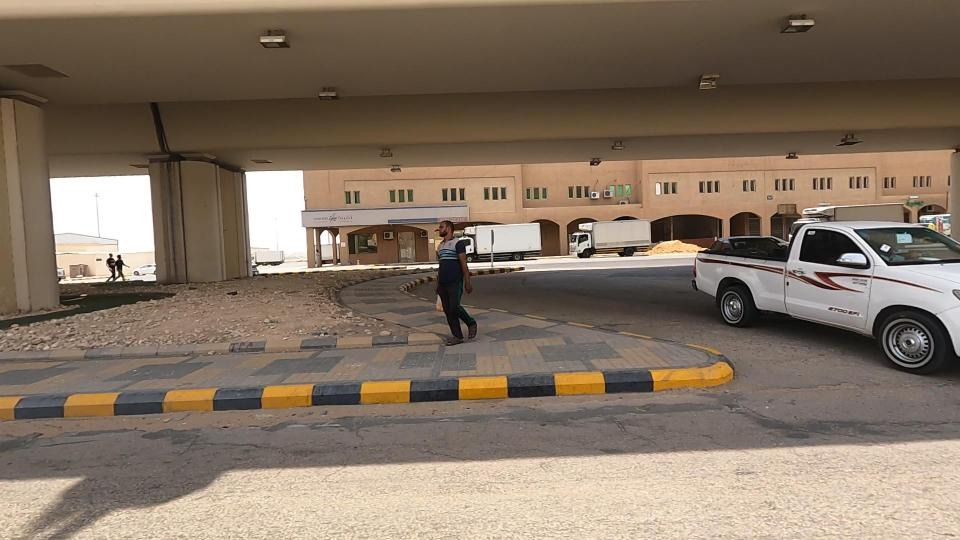SAND_ON_ROAD: (599, 208, 727, 285)
